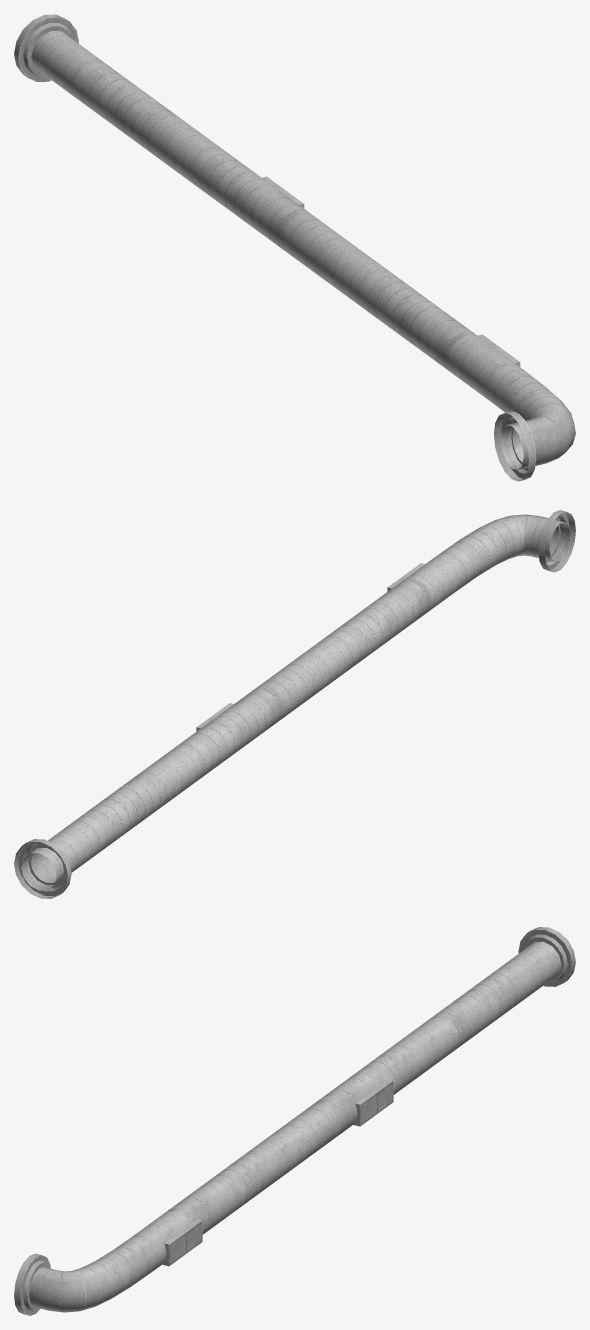
File: Bakery_Ventilation_01.fbx
3 views of the same model, one above another, from view 1: azimuth 30°, elevation 25°; view 2: azimuth 150°, elevation 25°; view 3: azimuth 330°, elevation 25° (orthographic). The views are drawn at different scales.
Visible parts, largest first — view 1: Bakery_Ventilation_01_LOD0; view 2: Bakery_Ventilation_01_LOD0; view 3: Bakery_Ventilation_01_LOD0.
Part boxes in pixels (<box>): Bakery_Ventilation_01_LOD0: <box>14,14,575,481</box>; Bakery_Ventilation_01_LOD0: <box>14,510,575,898</box>; Bakery_Ventilation_01_LOD0: <box>14,927,575,1315</box>.
Size of what is drawn, in the model's own units: 35.34 by 23.78 by 369.
